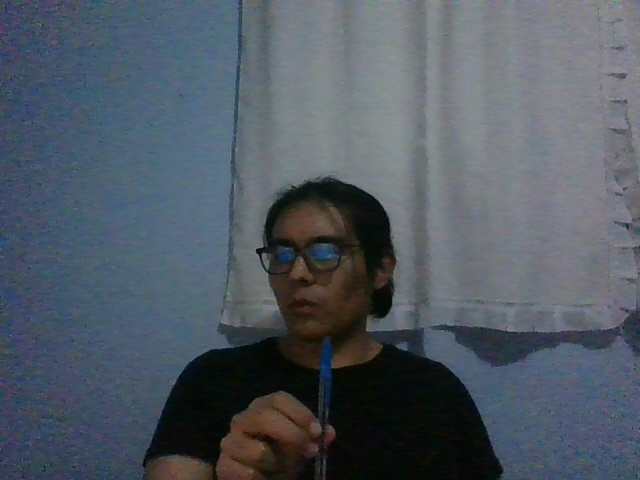pluma: (313, 335, 332, 480)
